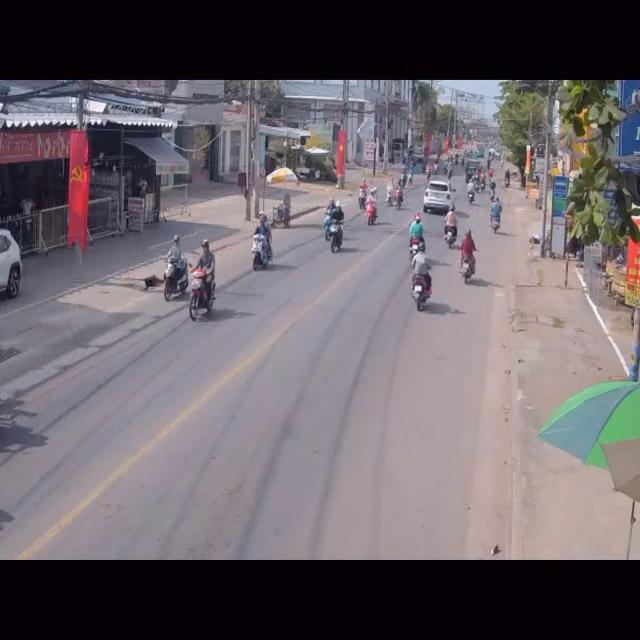car: (0, 229, 21, 306), (422, 174, 453, 214)
motorbike: (190, 238, 220, 325), (165, 236, 190, 304), (252, 216, 275, 277), (411, 252, 434, 312), (326, 200, 346, 257), (459, 229, 477, 283), (408, 215, 426, 259), (444, 207, 460, 247), (489, 198, 503, 233), (365, 194, 377, 227)
